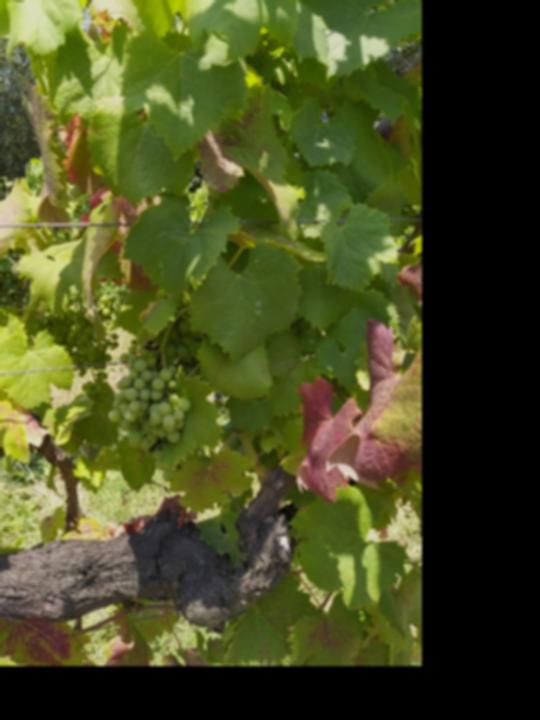grape: (107, 307, 206, 455), (38, 305, 120, 407)
